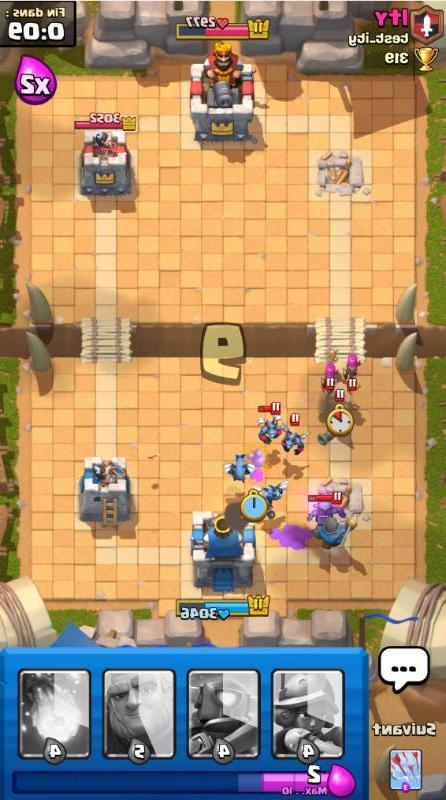archere: (343, 353, 362, 391), (321, 363, 340, 399)
chevalier: (307, 513, 357, 551)
gargouille: (281, 413, 312, 456), (256, 402, 285, 446), (253, 480, 288, 512), (222, 454, 254, 484)
mini_PEKKA: (306, 492, 346, 527)
mousquetaire: (317, 389, 345, 445)
